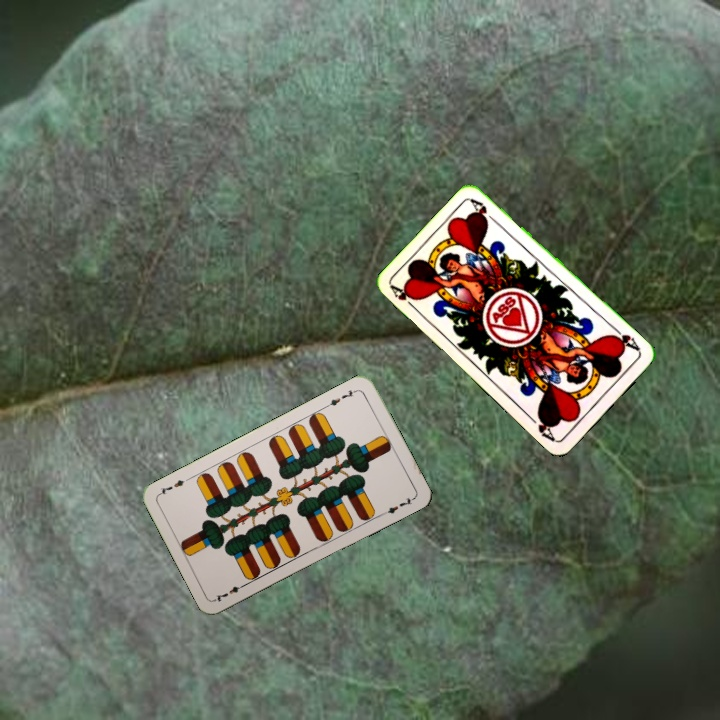E7: (322, 385, 360, 410), (211, 579, 249, 604)
HA: (607, 323, 643, 354), (387, 282, 420, 314)
